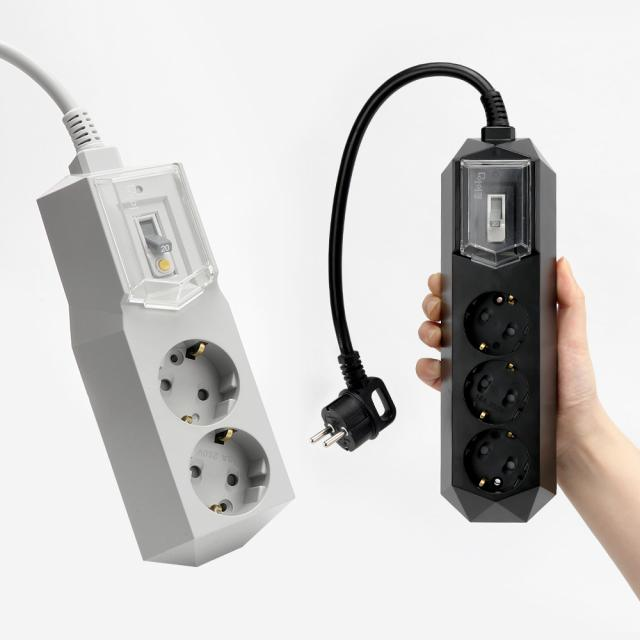typeb: (0, 120, 323, 595), (373, 110, 600, 528)
